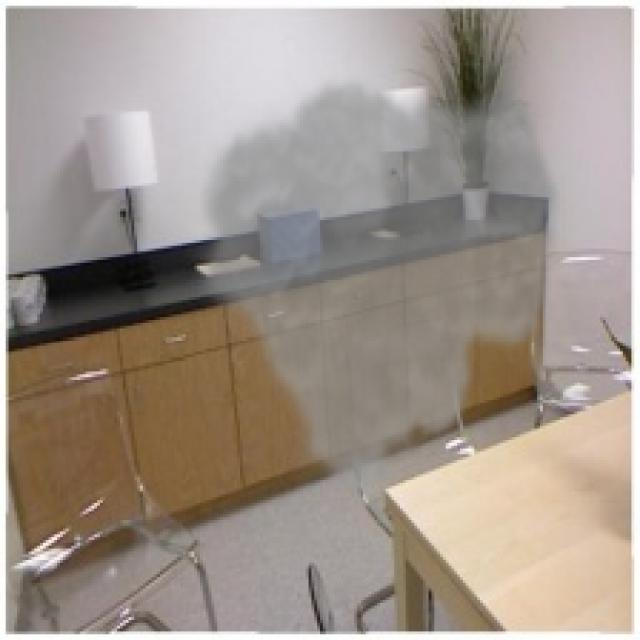smoke: (188, 74, 566, 500)
